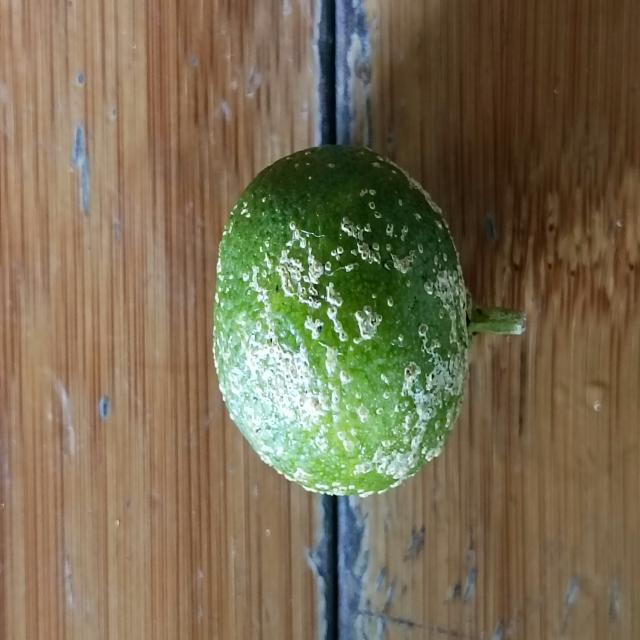scab: (208, 137, 474, 511)
